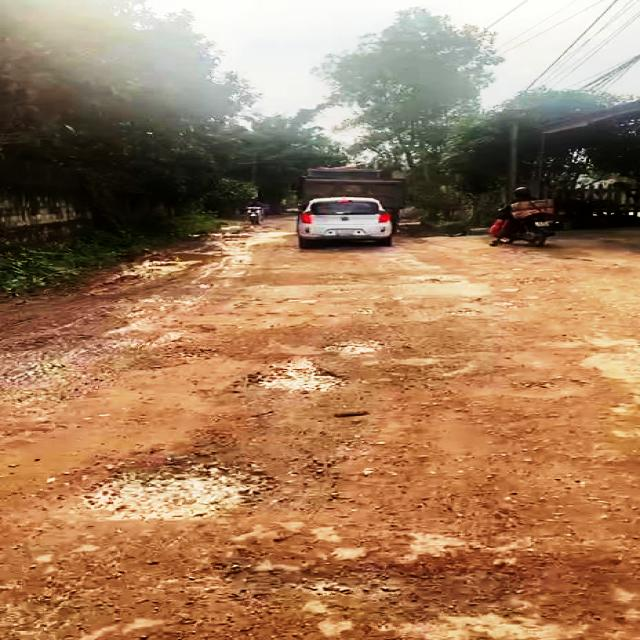pothole: (49, 458, 278, 532), (203, 564, 426, 605), (233, 358, 352, 400), (437, 365, 592, 397), (318, 337, 388, 357), (153, 345, 221, 361)
